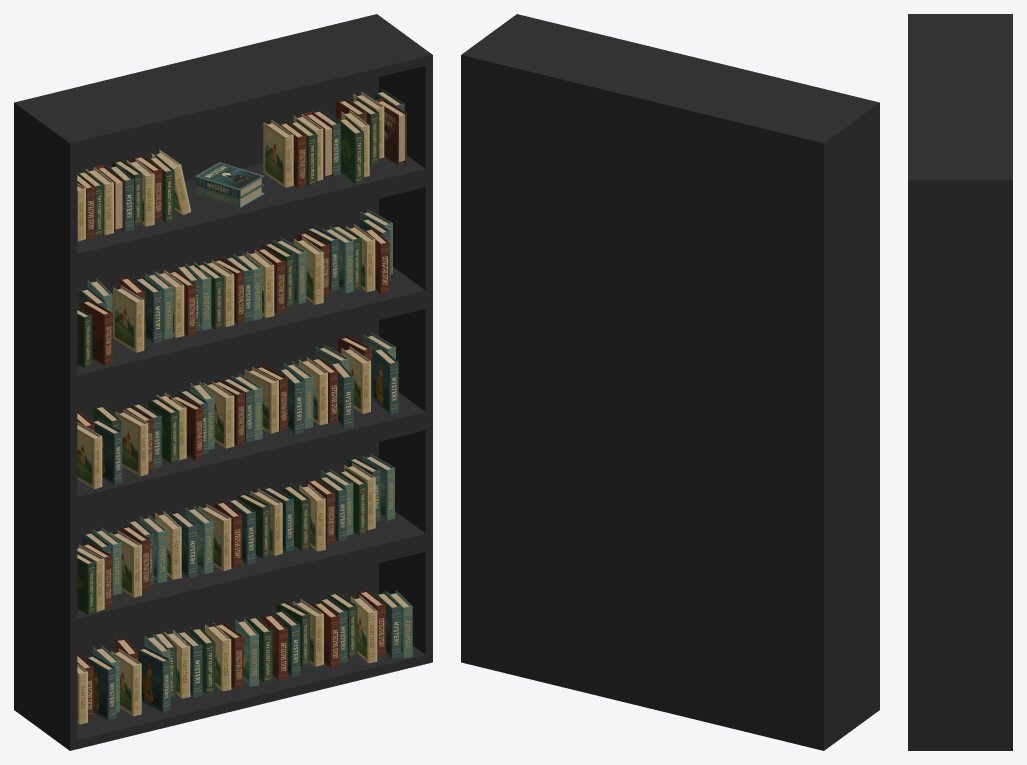
Rendered from bookshelf.glb.
3 renders of one model, left to right at view 1: azimuth 30°, elevation 25°; view 2: azimuth 150°, elevation 25°; view 3: azimuth 270°, elevation 25°, orthographic. The views are drawn at different scales.
Visible parts, largest first — view 1: bookshelf; view 2: bookshelf; view 3: bookshelf.
Part boxes in pixels (x1,y1,x2,y2): bookshelf: (14,14,432,750); bookshelf: (461,14,879,750); bookshelf: (908,14,1012,750).
Size of the model in its own units: 1.5 by 2.4 by 0.4.
2 materials, 2 textured.
